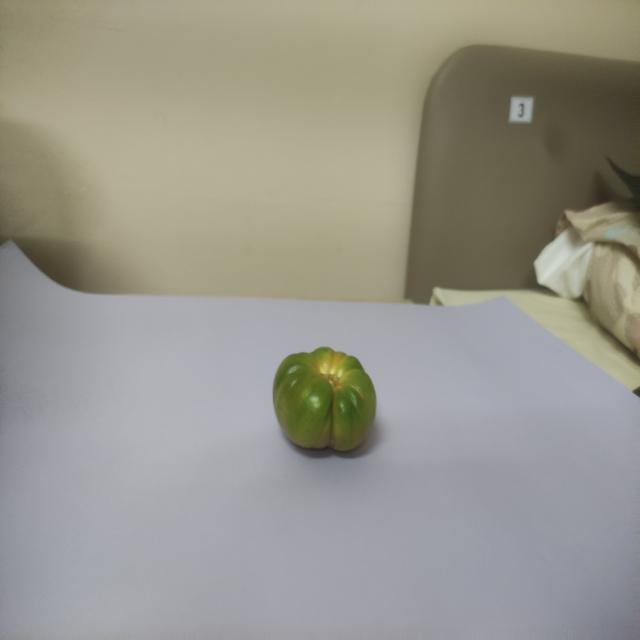yesil: (266, 336, 383, 464)
